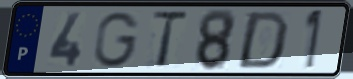1: (302, 8, 326, 73)
4: (45, 10, 84, 69)
8: (193, 7, 238, 73)
D: (233, 10, 292, 71)
G: (92, 10, 143, 70)
T: (149, 9, 191, 70)
